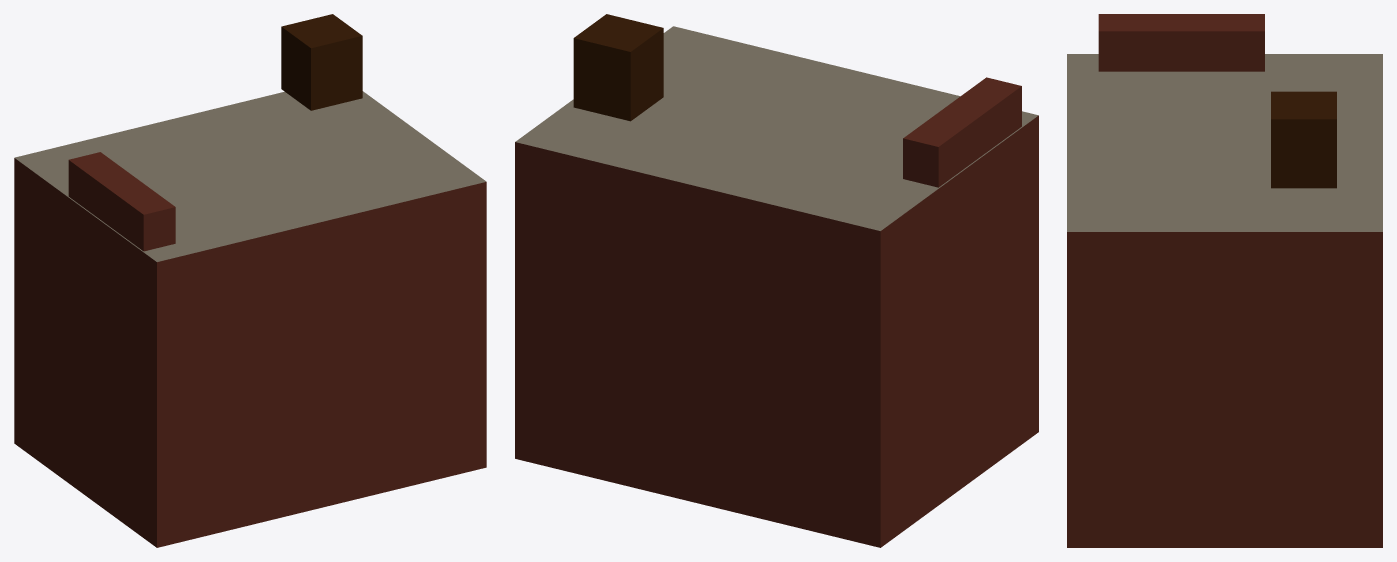
Rendered from ns-main-street.towns-v1.lod2.glb.
3 renders of one model, left to right at view 1: azimuth 30°, elevation 25°; view 2: azimuth 150°, elevation 25°; view 3: azimuth 270°, elevation 25°, orthographic. The views are drawn at different scales.
Visible parts, largest first — view 1: ns-main-street; view 2: ns-main-street; view 3: ns-main-street.
Part boxes in pixels (x1,y1,x2,y2): ns-main-street: (14, 14, 486, 547); ns-main-street: (515, 14, 1038, 547); ns-main-street: (1067, 14, 1382, 547).
Bounding box in the file's own units: 16 × 17.25 × 12.
